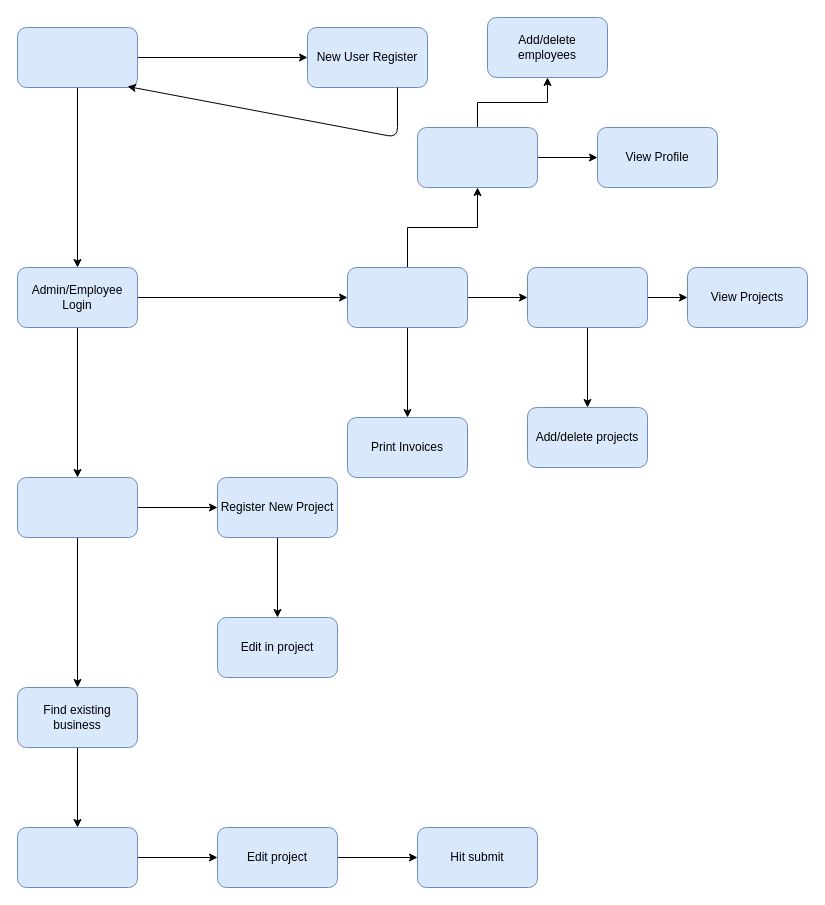
Some shapes in this 825 by 905 pixel diagram are drawn without their labels. Each missing label, with the centre of its shape:
"Admin dashboard" belongs at (407,297).
"Employee Dashboard" belongs at (77,507).
"Find specific project" belongs at (77,857).
"Manage Employees" belongs at (477,157).
"Manage Projects" belongs at (587,297).
"Profile Login" belongs at (77,57).
